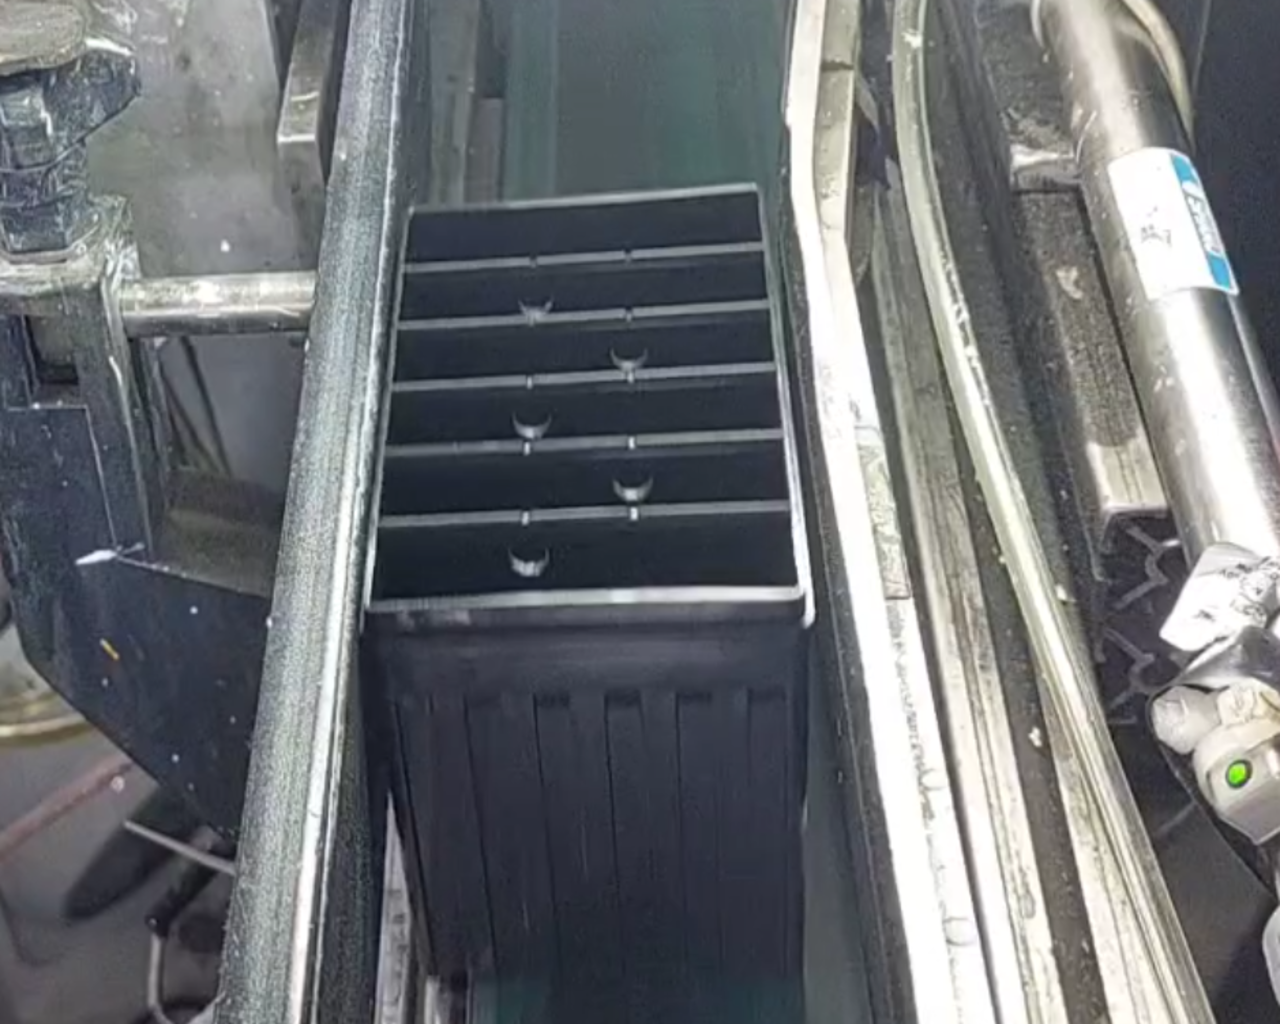box: (352, 169, 822, 644)
round: (604, 453, 661, 509), (503, 392, 562, 444), (499, 537, 559, 582), (603, 332, 657, 373), (511, 280, 557, 318)
